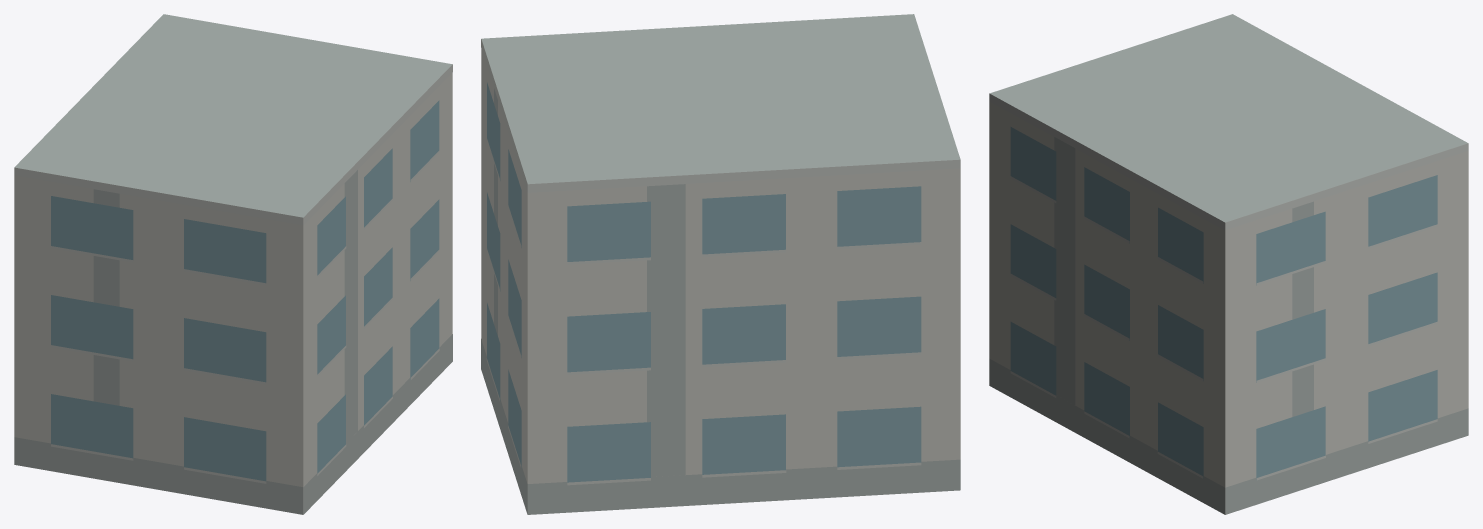
Rendered from residential-0dabf72f-3fe0-4e79-bb4b-c1062f8a5f50.glb.
3 views of the same model, side by side, from view 1: azimuth 30°, elevation 25°; view 2: azimuth 150°, elevation 25°; view 3: azimuth 270°, elevation 25° (orthographic). The views are drawn at different scales.
Visible parts, largest first — view 1: residential-0dabf72f-3fe0-4e79-bb4b-c1062f8a5f50.tmp; view 2: residential-0dabf72f-3fe0-4e79-bb4b-c1062f8a5f50.tmp; view 3: residential-0dabf72f-3fe0-4e79-bb4b-c1062f8a5f50.tmp.
Part boxes in pixels (<box>): residential-0dabf72f-3fe0-4e79-bb4b-c1062f8a5f50.tmp: <box>14,14,452,514</box>; residential-0dabf72f-3fe0-4e79-bb4b-c1062f8a5f50.tmp: <box>481,14,960,514</box>; residential-0dabf72f-3fe0-4e79-bb4b-c1062f8a5f50.tmp: <box>989,14,1468,514</box>.
Size of the model in its own units: 14.01 by 9.15 by 13.6.
